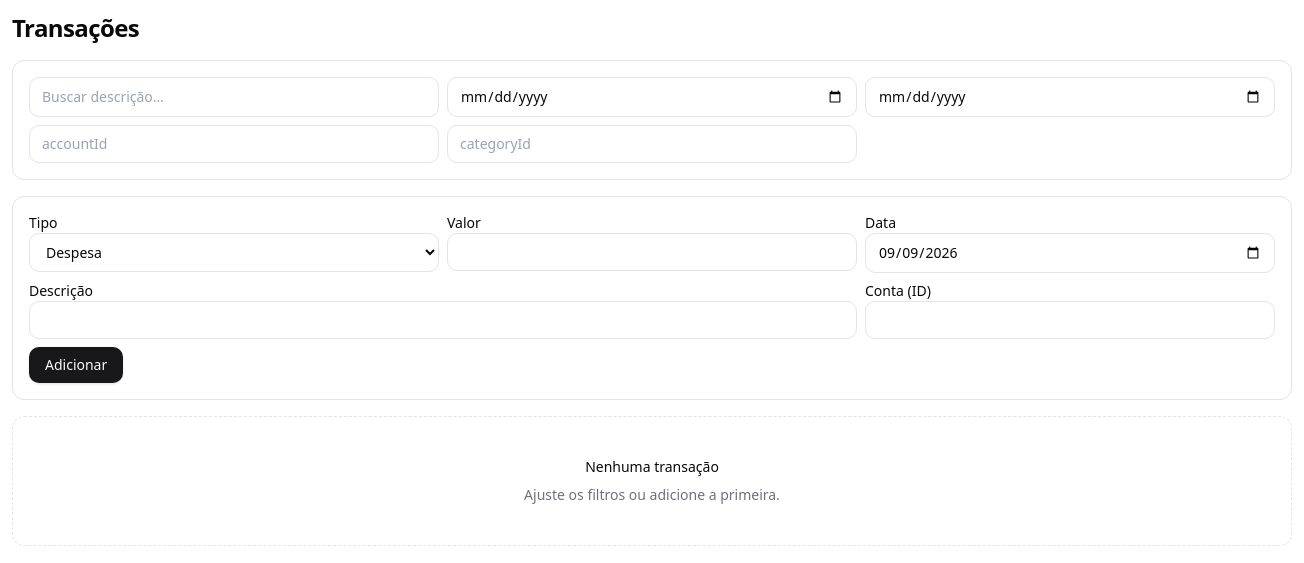
Test: TransactionsManager - task 4.6 › criar transacao atualiza a lista sem reload (optimistic)
Expected: the text "Nenhuma transação" is shown, x1=585 y1=457 x2=719 y2=477
Type "49.9" into the number field labelled "Valor" at (652, 252), box x1=447 y1=233 x2=857 y2=271
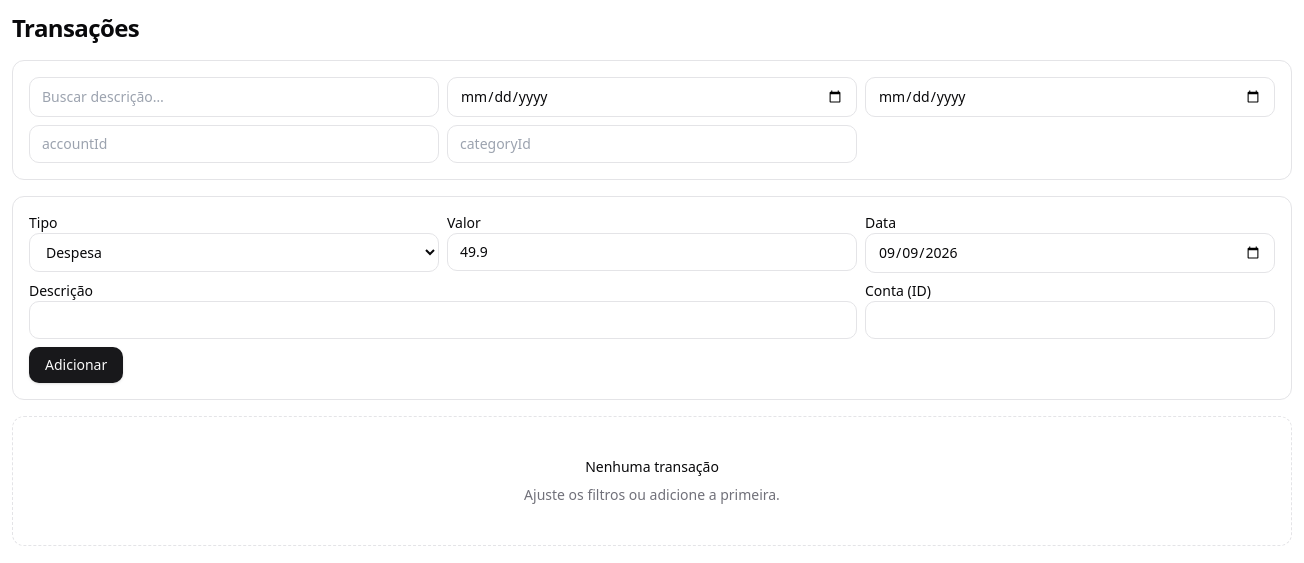
Type "Mercado" into the field labelled "Descrição" at (443, 320), box x1=29 y1=301 x2=857 y2=339
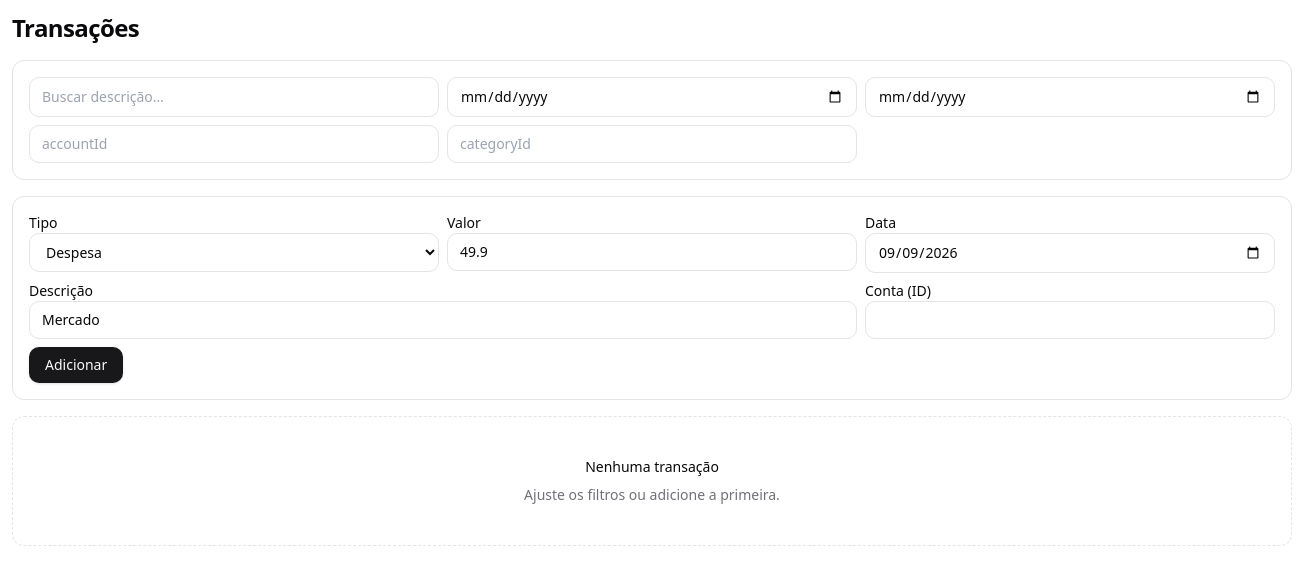
Type "acc_1" into the field labelled "Conta (ID)" at (1070, 320), box x1=865 y1=301 x2=1275 y2=339
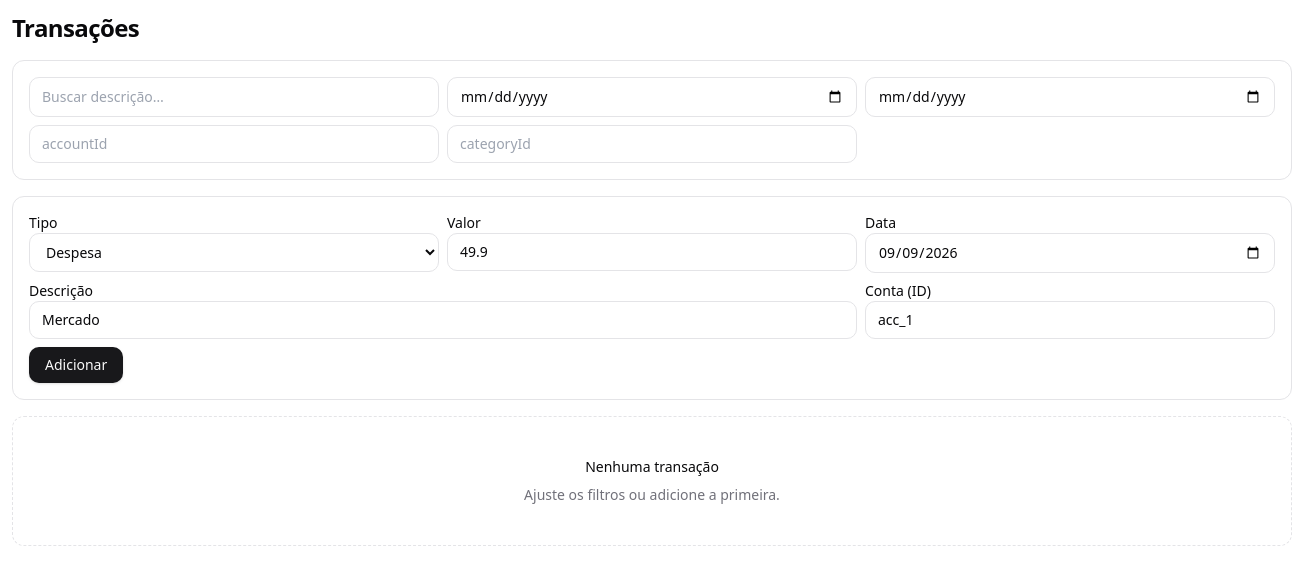
Submit the form named "Nova transação", box x1=12 y1=196 x2=1292 y2=400
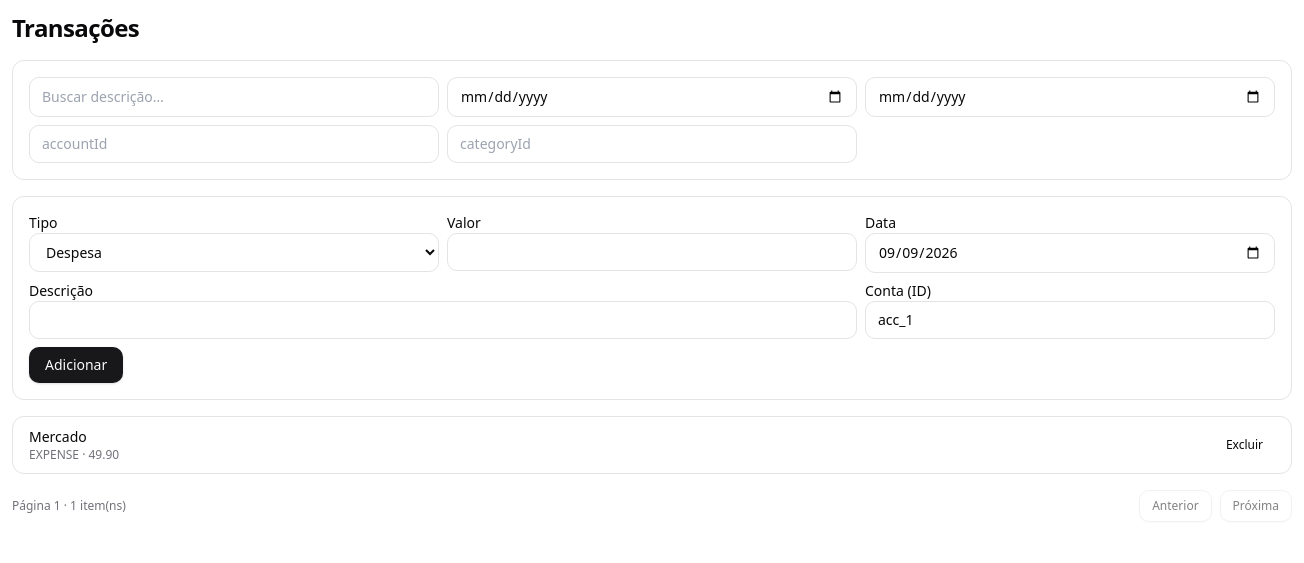
Now the text "Mercado" is shown, box x1=29 y1=427 x2=87 y2=446
